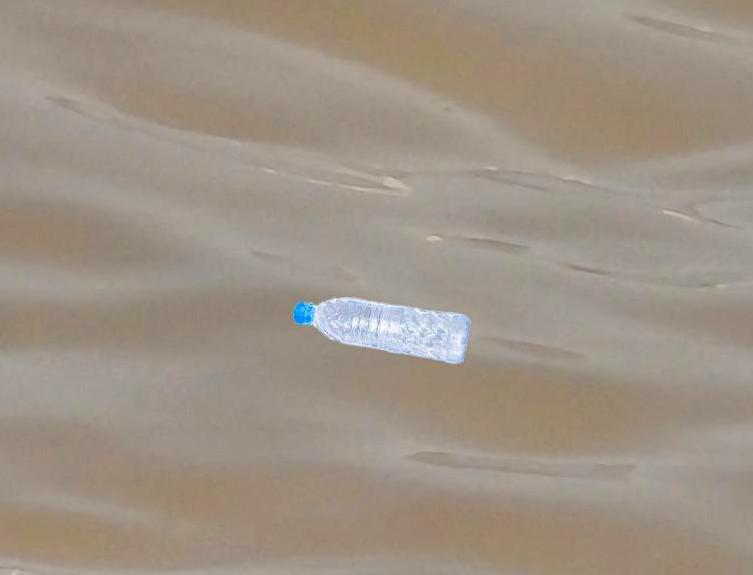Plastic: (289, 290, 478, 370)
